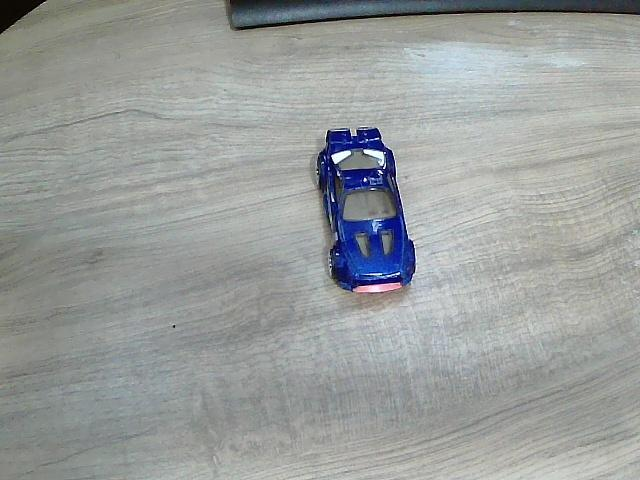Carro: (316, 128, 415, 294)
